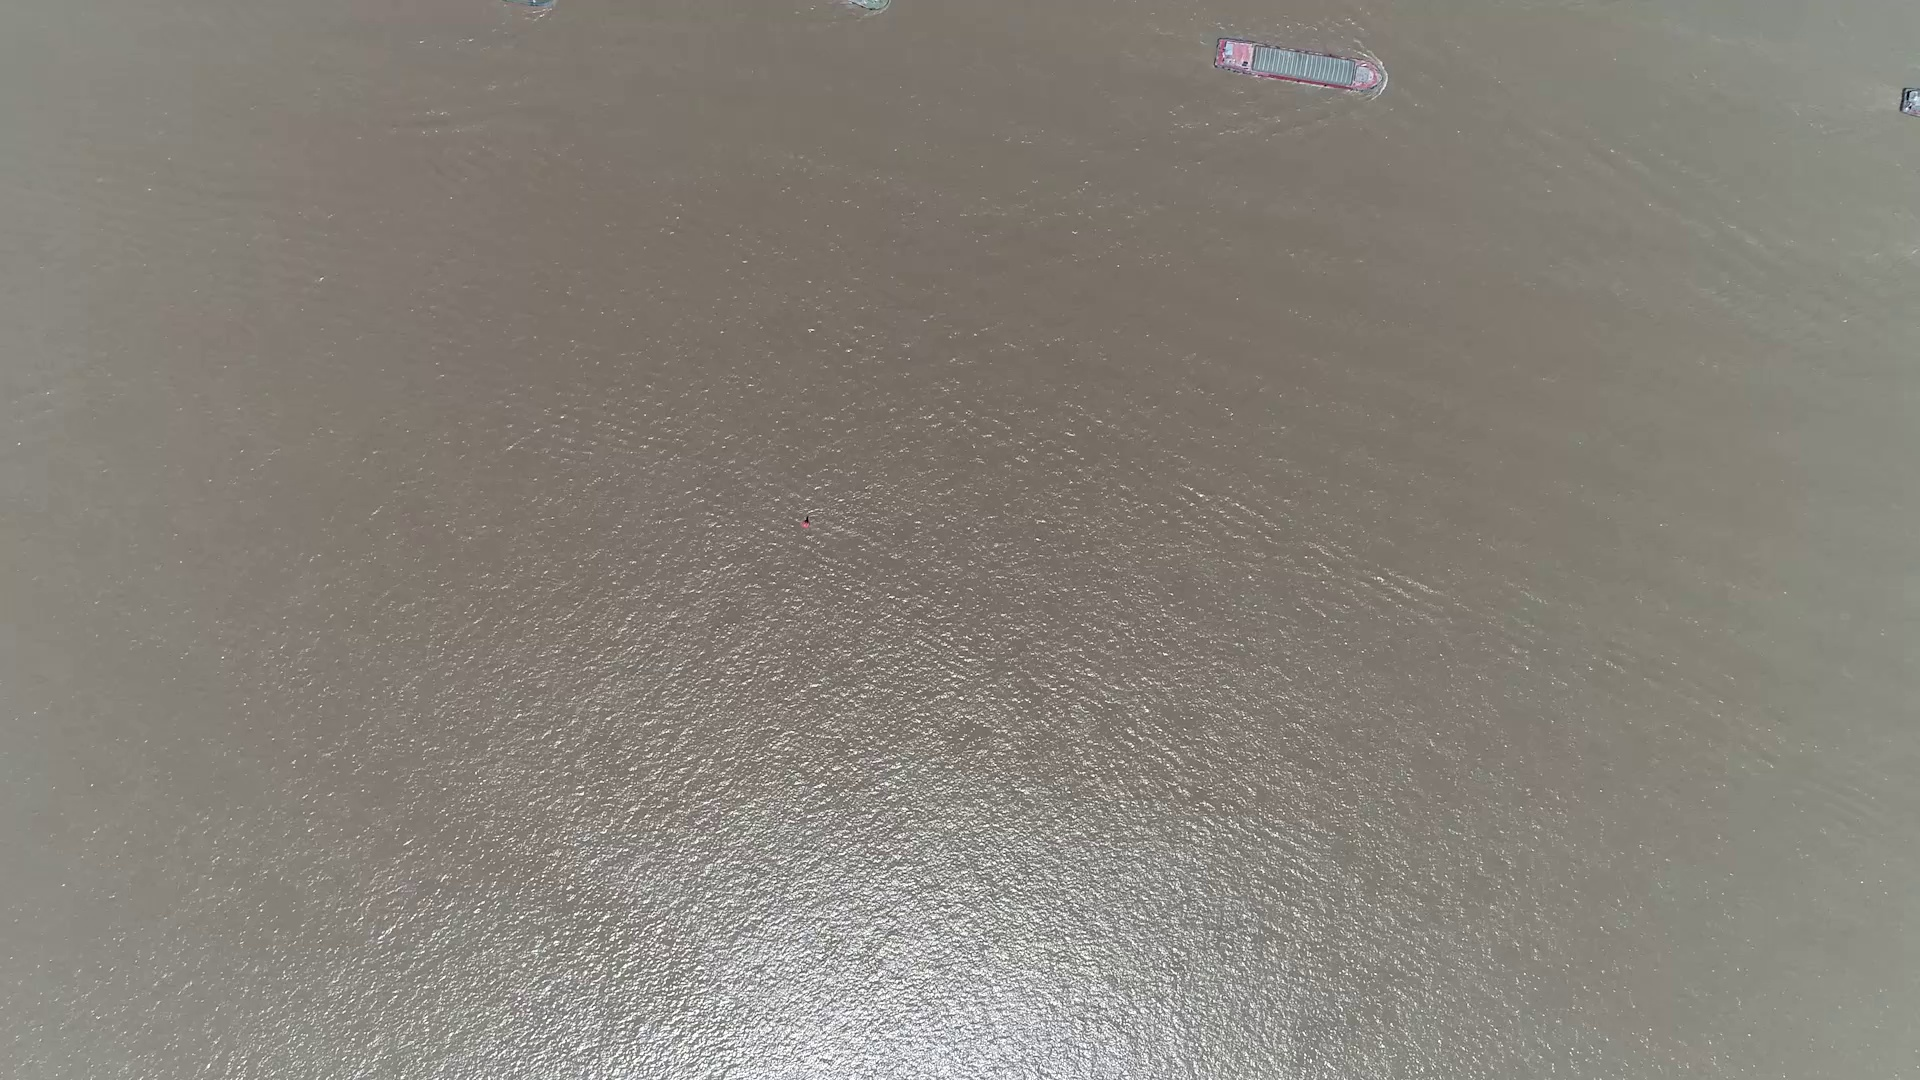ship: (1209, 40, 1386, 94)
